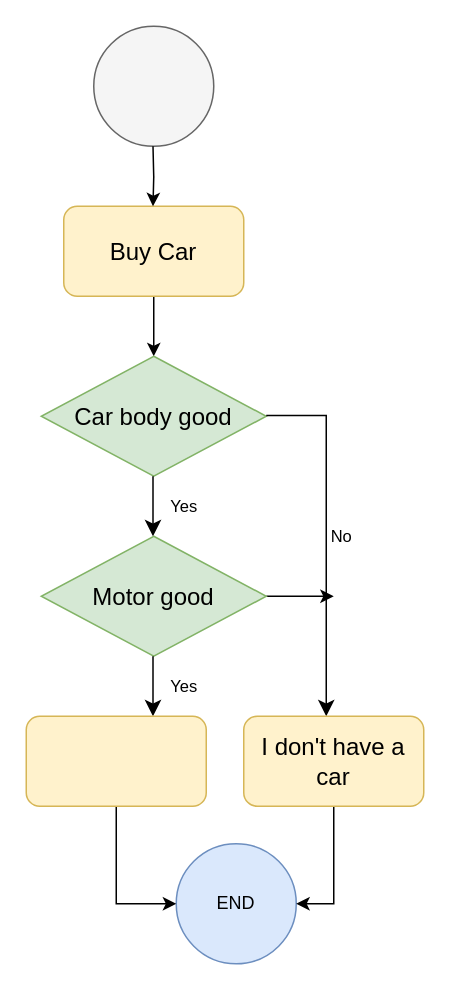
This 450x990 diagram has some shape labels left out. The shapes that lost their labels are listed below. From the top down, each one's centre as x and y in pixels, then its label:
the point at 153,85: Start
the point at 115,760: I have a car
